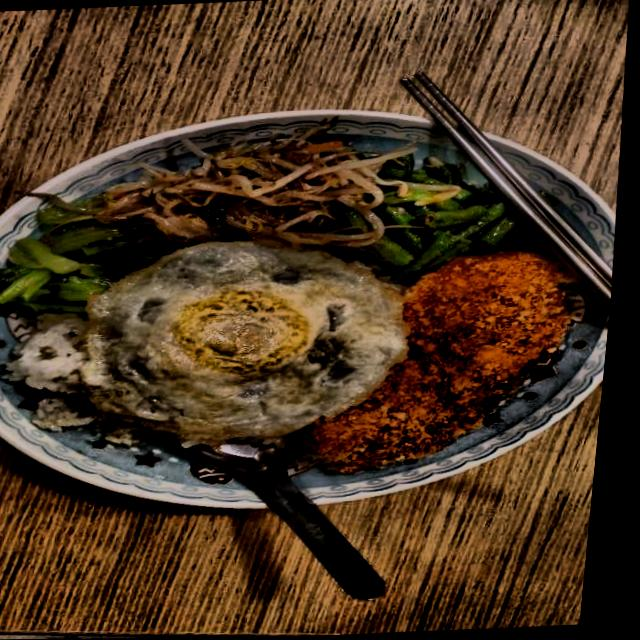Food: (81, 232, 425, 445), (301, 249, 576, 476), (123, 133, 394, 256)
